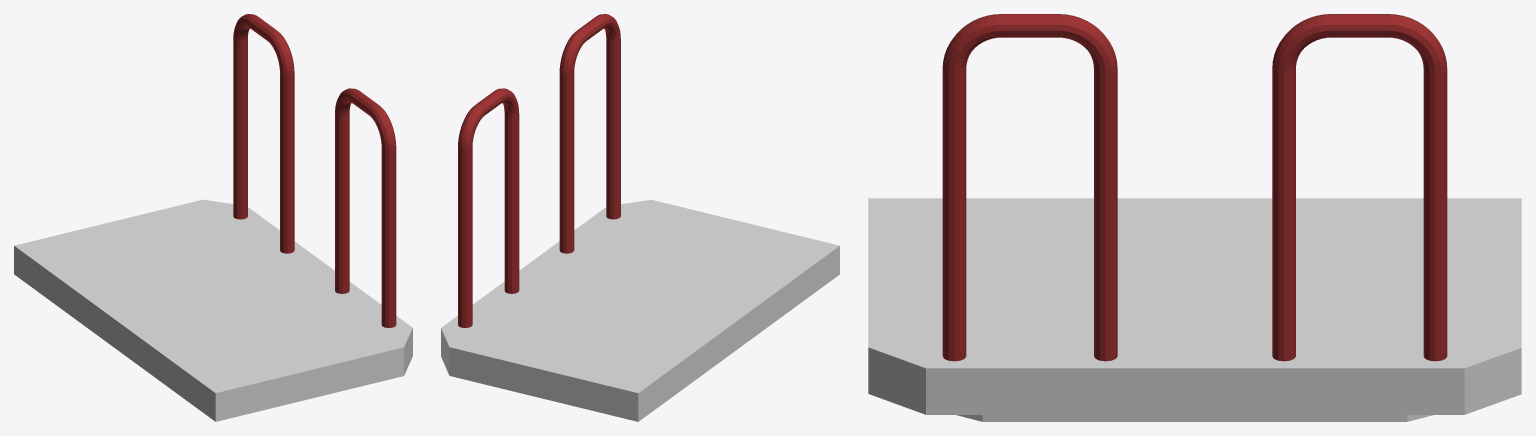
Rendered from ddr_pad.fbx.
The picture shows the model from 3 angles, left to right: view 1: azimuth 30°, elevation 25°; view 2: azimuth 150°, elevation 25°; view 3: azimuth 270°, elevation 25°; orthographic projection. The views are drawn at different scales.
Parts seen in each view (by area): view 1: Cube, Torus.007, Torus.003; view 2: Cube, Torus.007, Torus.003; view 3: Cube, Torus.007, Torus.003.
Part boxes in pixels (x1=…): Cube: x1=14, y1=199, x2=412, y2=421; Torus.007: x1=335, y1=88, x2=396, y2=327; Torus.003: x1=233, y1=14, x2=294, y2=253; Cube: x1=441, y1=199, x2=839, y2=421; Torus.007: x1=559, y1=14, x2=620, y2=253; Torus.003: x1=458, y1=88, x2=519, y2=327; Cube: x1=868, y1=198, x2=1521, y2=421; Torus.007: x1=942, y1=14, x2=1117, y2=361; Torus.003: x1=1272, y1=14, x2=1447, y2=361.
Size of the model in its own units: 5.27 by 5.83 by 8.56.
